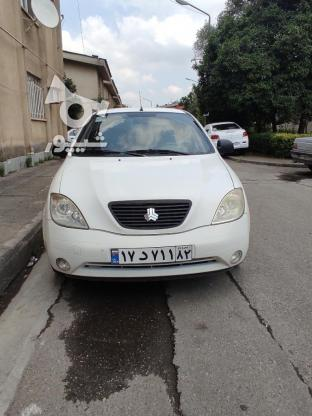car: (110, 248, 196, 264)
